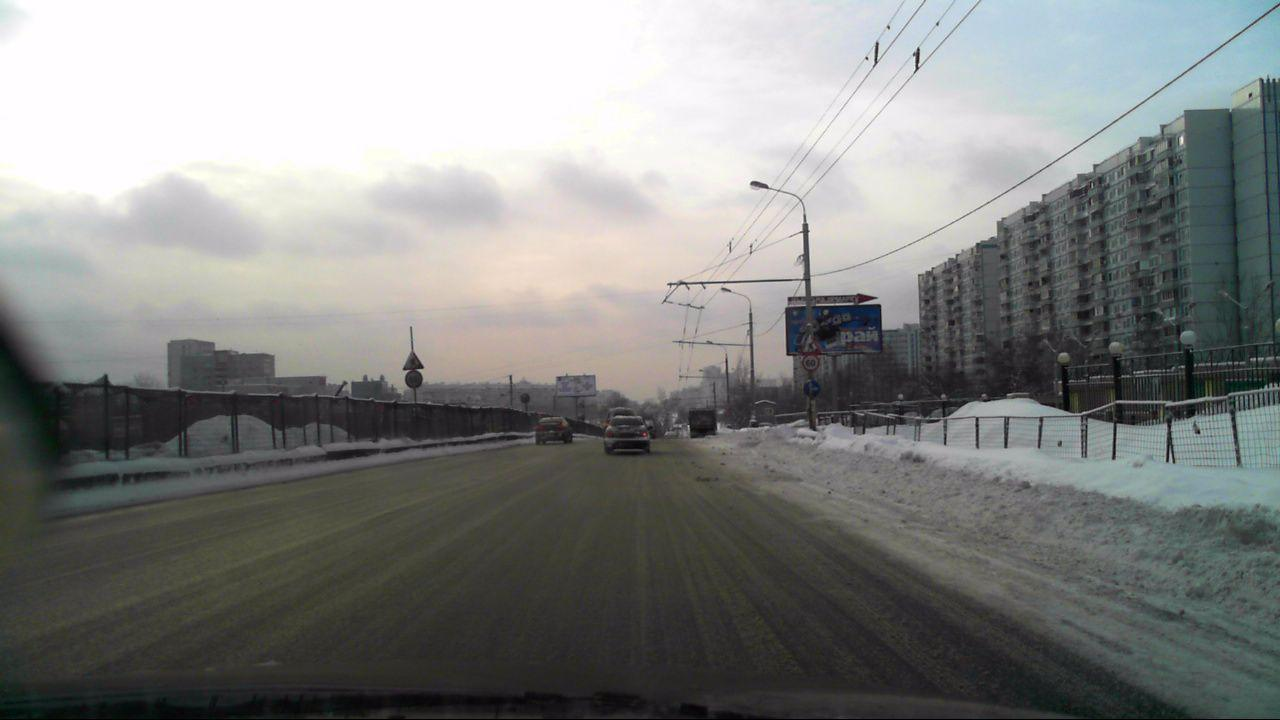1_25: (399, 351, 424, 371), (802, 334, 822, 354)
3_24: (404, 371, 424, 388), (802, 354, 819, 372)
4_1_4: (802, 380, 820, 399)
